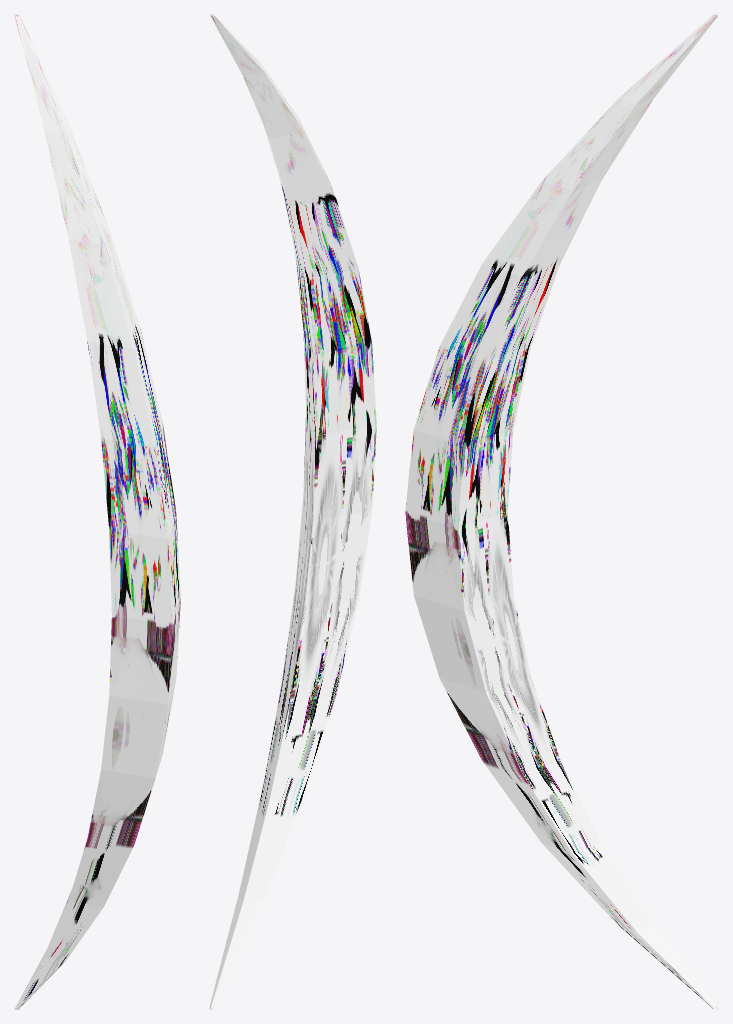
Rendered from fx_c811_normal_proj__a2blade.glb.
3 renders of one model, left to right at view 1: azimuth 30°, elevation 25°; view 2: azimuth 150°, elevation 25°; view 3: azimuth 270°, elevation 25°, orthographic.
Parts seen in each view (by area): view 1: fx_c811_normal_proj; view 2: fx_c811_normal_proj; view 3: fx_c811_normal_proj.
Part boxes in pixels (left/top/right/bottom): fx_c811_normal_proj: left=14, top=14, right=180, bottom=1009; fx_c811_normal_proj: left=209, top=14, right=376, bottom=1009; fx_c811_normal_proj: left=405, top=14, right=718, bottom=1009.
Size of the model in its own units: 0.056 by 0.762 by 0.218.
Materials: 1 (1 with a texture image).
